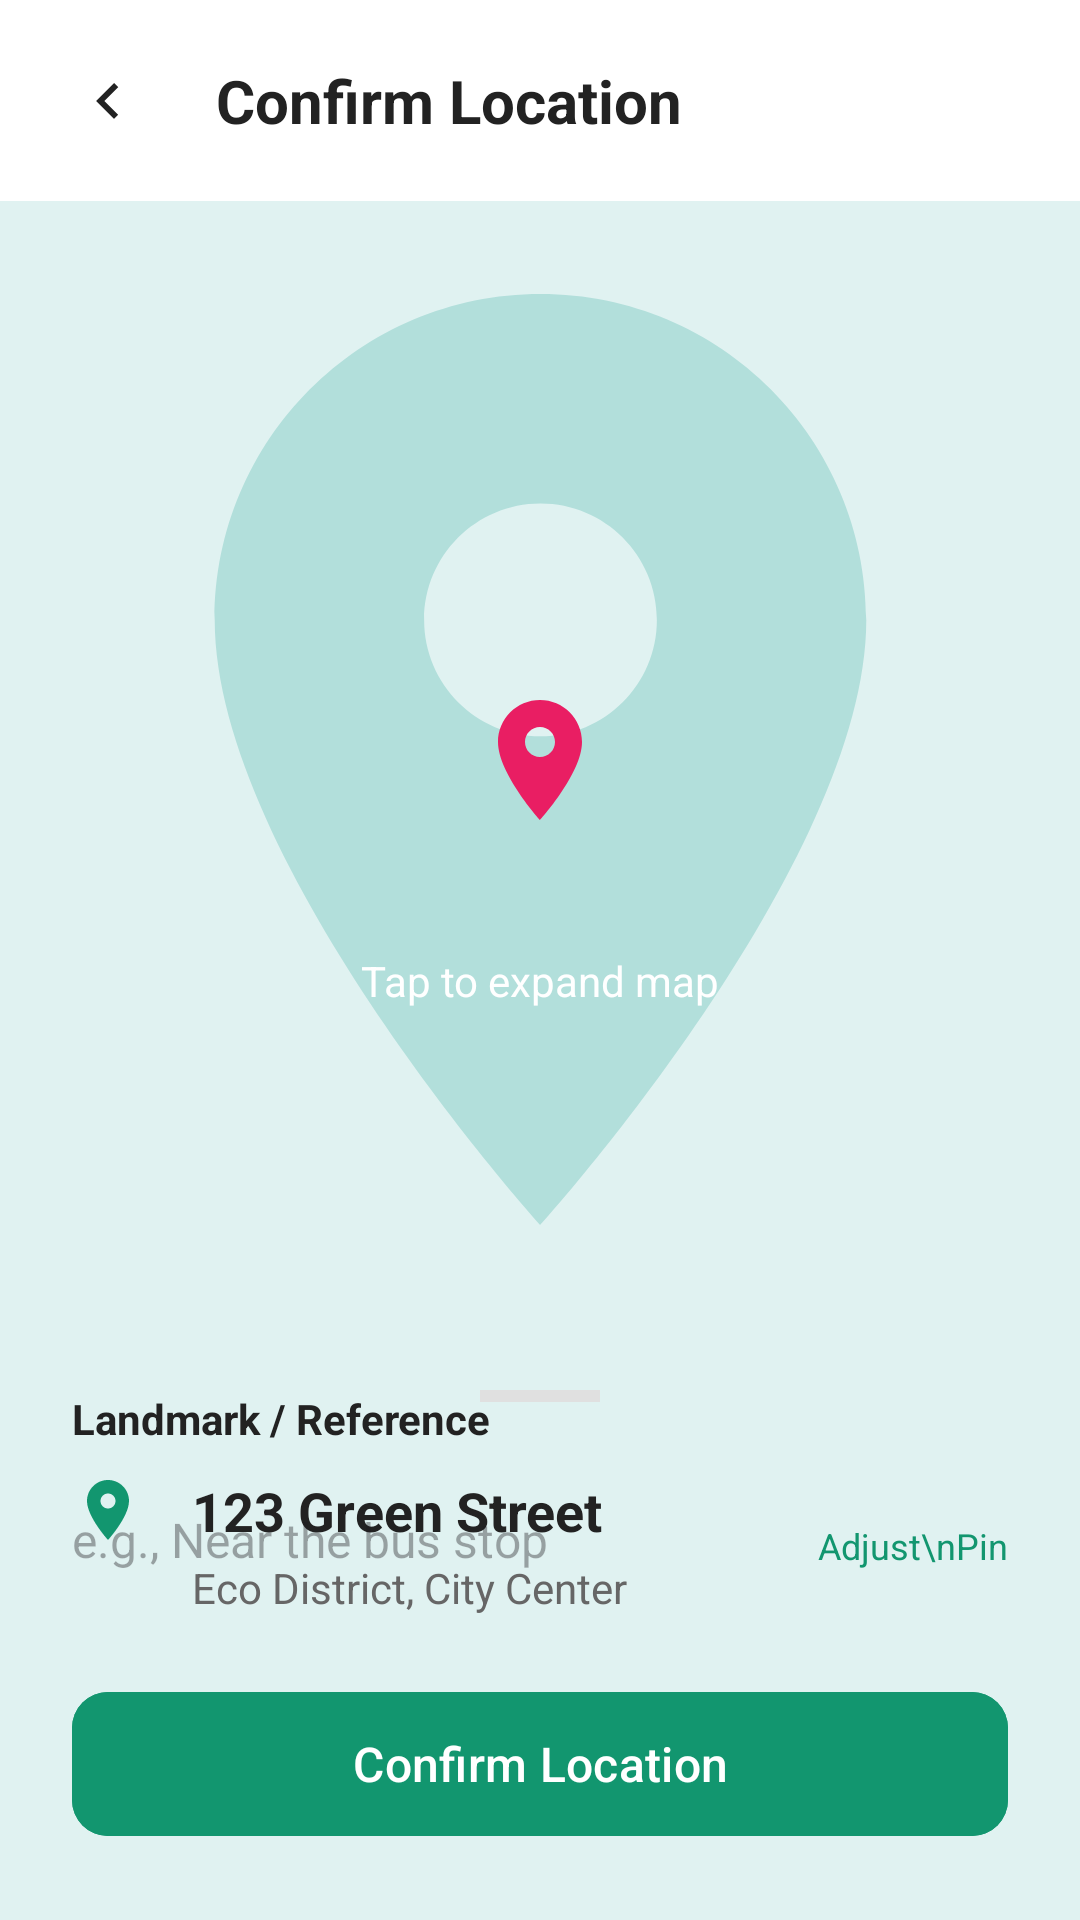

Icons on this 1080×1920 Android screen, each with its box as rect(x1, y1, x2, y2):
Back: rect(96, 83, 118, 119)
